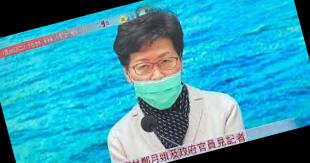mask_weared_incorrect: (129, 46, 188, 102)
